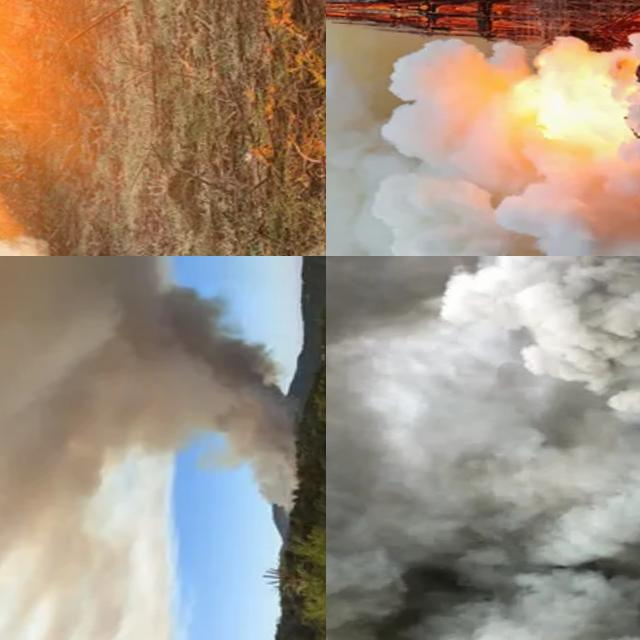smoke: (326, 256, 640, 640), (326, 16, 640, 256), (86, 283, 322, 512)
